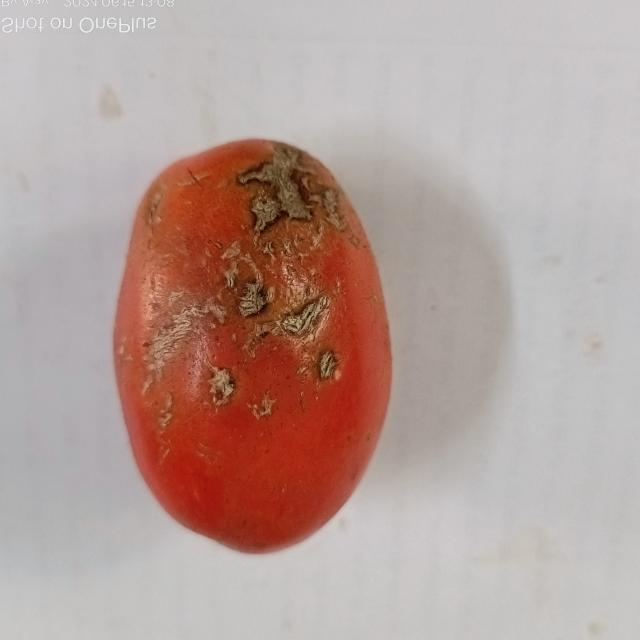Bacterial_Spot: (240, 159, 338, 241), (276, 294, 334, 340), (224, 274, 268, 320), (204, 368, 240, 408), (314, 349, 342, 382)
